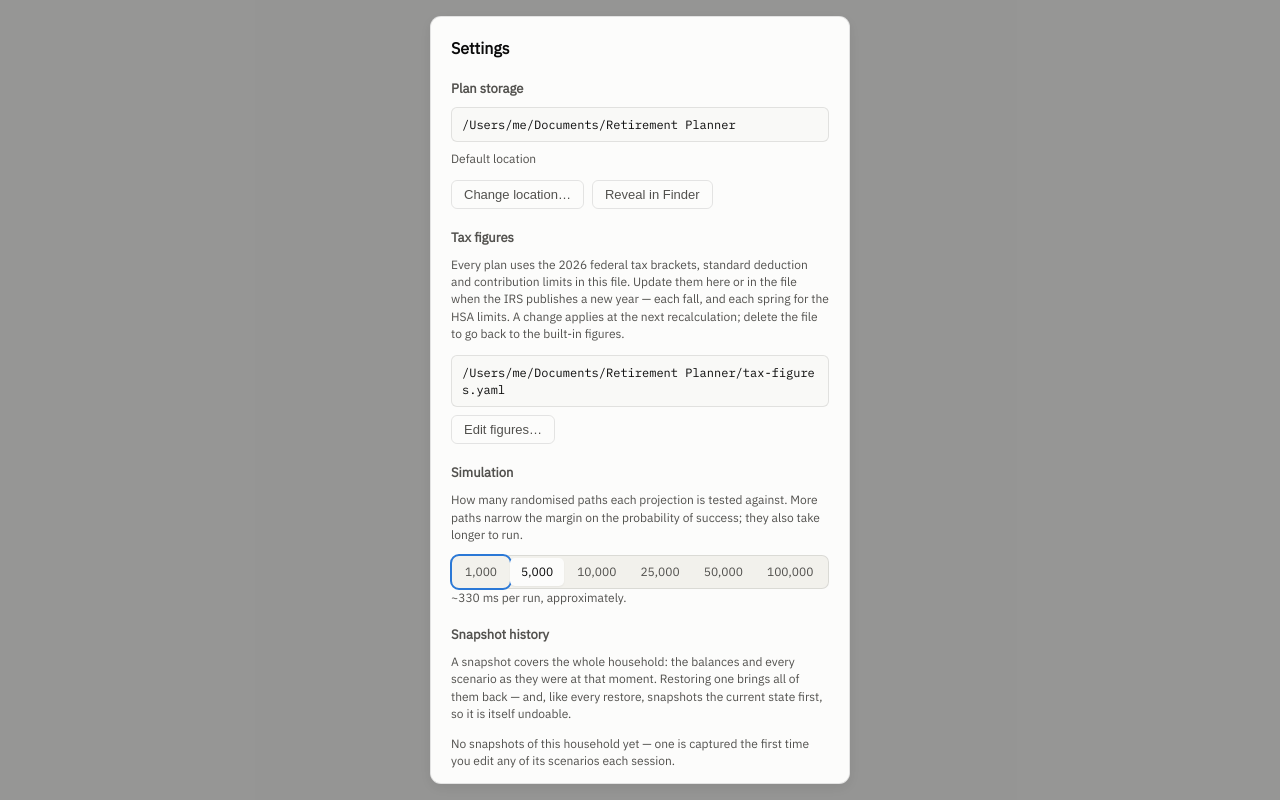
Test: StorageSettings tax figures › opens the editor on the figures in the file
Click the button "Edit figures…".
click(503, 430)  # box [451,415,555,444]
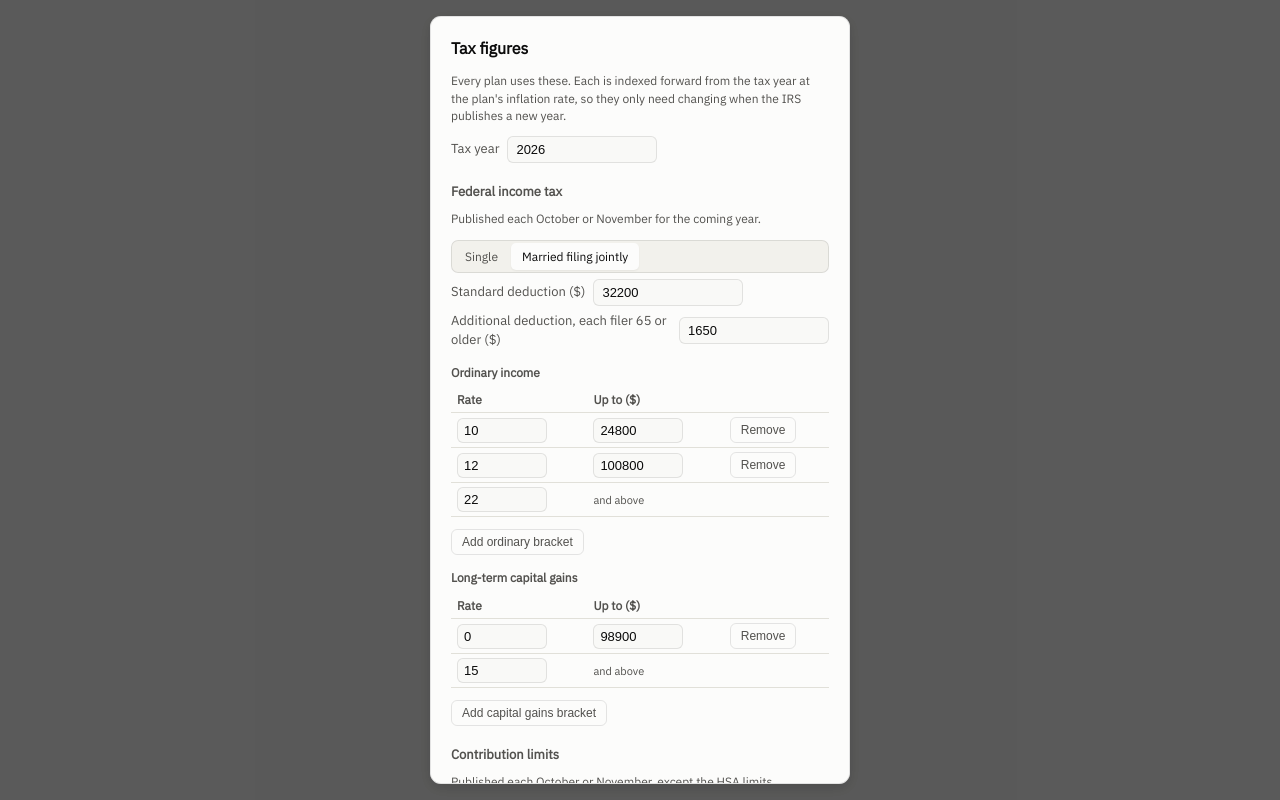
Check: the number field labelled "Tax year" holds "2026", box [507,136,657,163]
